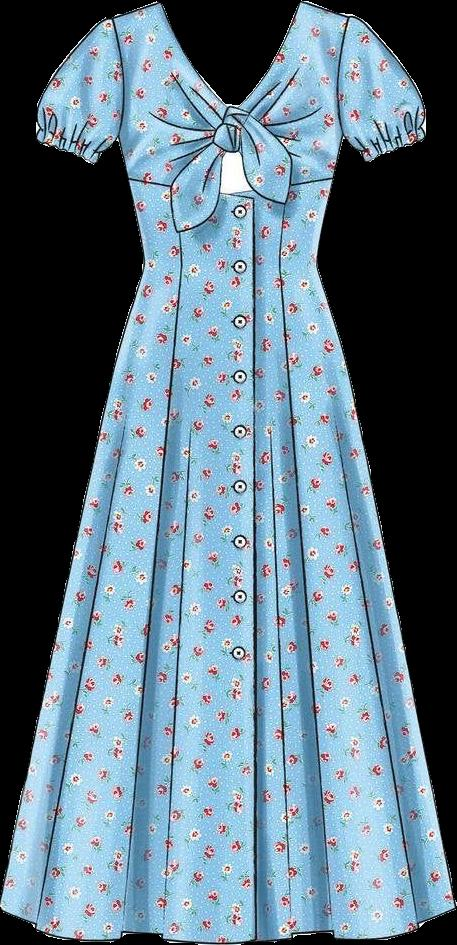Bodice: (110, 1, 355, 264)
Hemline: (0, 899, 456, 944)
Neckline: (153, 0, 309, 114), (125, 174, 337, 206)
Skirt: (1, 262, 453, 942)
Sleeve: (36, 17, 123, 164), (343, 17, 425, 161)
Sleeveline: (335, 16, 364, 141), (105, 18, 129, 143)
